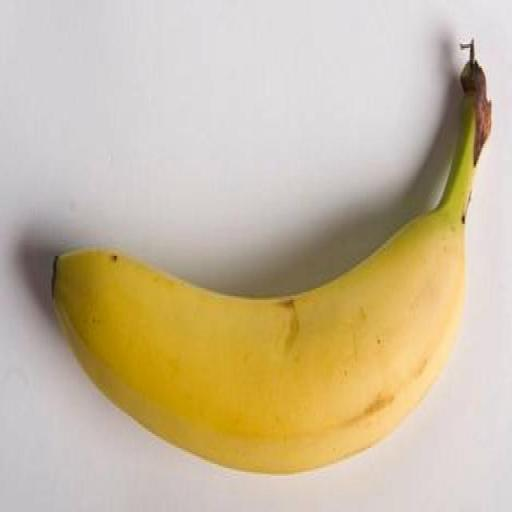fruit: (53, 47, 490, 472)
